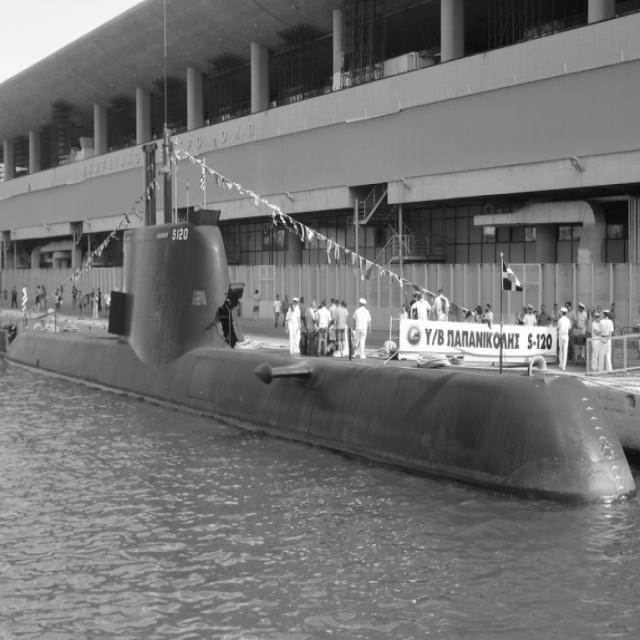submarine: (1, 124, 640, 505)
